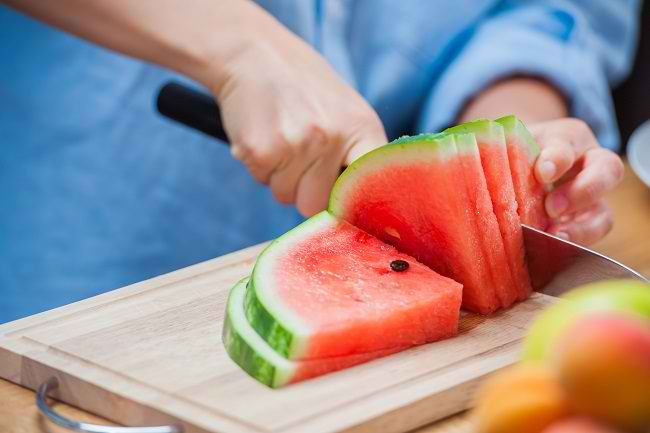Semangka: (257, 213, 435, 355), (376, 125, 478, 309)
